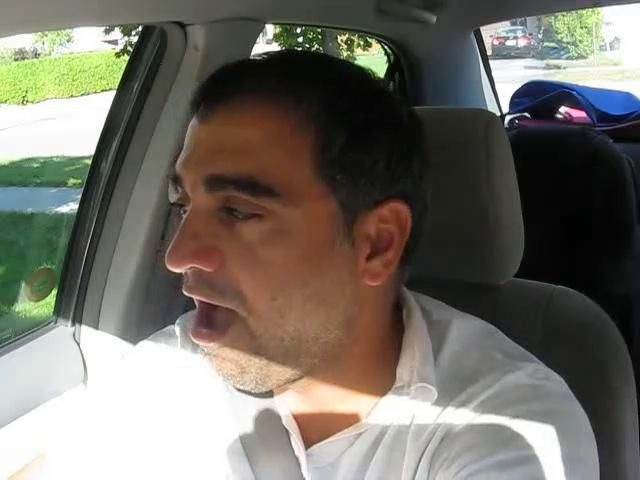close_eyeL: (165, 192, 197, 225)
close_eyeR: (205, 189, 285, 237)
yawn: (157, 279, 260, 358)
